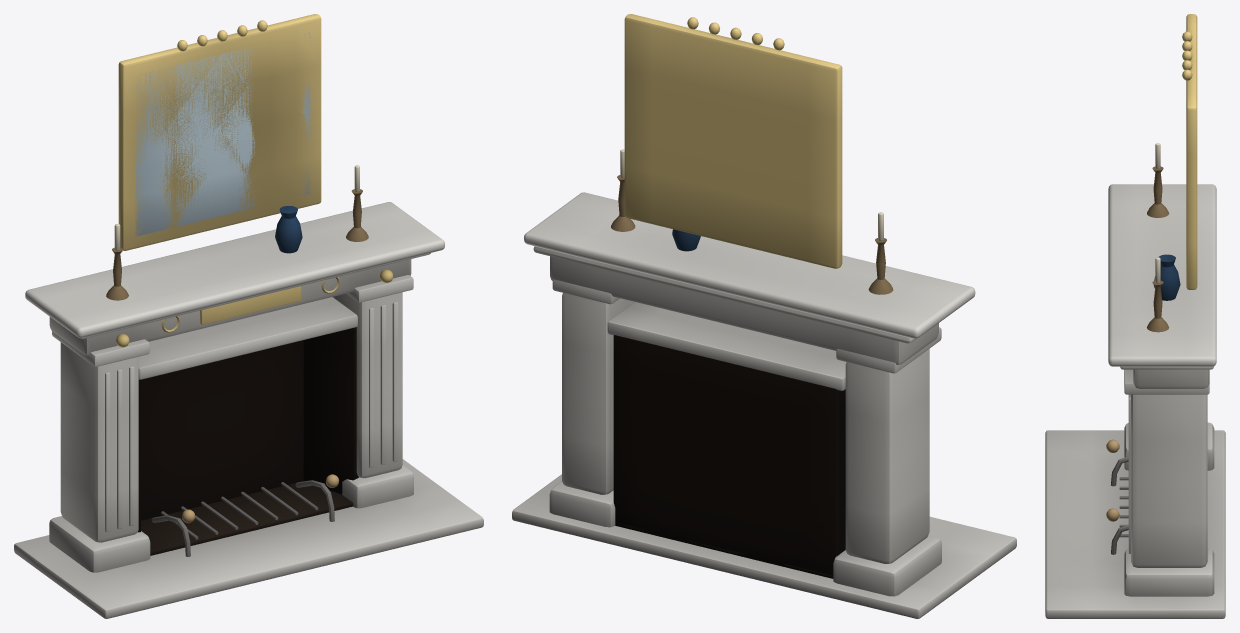
Rendered from obj_kit_fireplace.glb.
3 renders of one model, left to right at view 1: azimuth 30°, elevation 25°; view 2: azimuth 150°, elevation 25°; view 3: azimuth 270°, elevation 25°, orthographic. The views are drawn at different scales.
Parts seen in each view (by area): view 1: Cube.022, Cube.017, Cube, Cube.015, Cube.023, Cube.002, Cube.019, Cube.021, Cube.008, Cube.020, Cube.013, Cube.001 (+12 smaller); view 2: Cube.022, Cube.017, Cube.015, Cube.002, Cube, Cube.008, Cube.013, Cube.021, Cube.001, Cube.016, Cube.007, Cube.006 (+2 smaller); view 3: Cube, Cube.015, Cube.008, Cube.022, Cube.007, Cube.013, vase, Cube.012, Cube.001, candlestick.001, candlestick, Cube.011 (+1 smaller).
Boxes of the visible parts, <box> form: Cube.022: <box>118,14,321,250</box>; Cube.017: <box>141,340,303,520</box>; Cube: <box>14,459,483,618</box>; Cube.015: <box>25,202,444,337</box>; Cube.023: <box>135,33,310,236</box>; Cube.002: <box>60,342,138,542</box>; Cube.019: <box>303,327,358,494</box>; Cube.021: <box>138,297,357,379</box>; Cube.008: <box>333,292,402,478</box>; Cube.020: <box>141,481,353,555</box>; Cube.013: <box>49,259,411,355</box>; Cube.001: <box>49,516,150,572</box>; Cube.022: <box>624,14,842,268</box>; Cube.017: <box>613,335,840,578</box>; Cube.015: <box>524,192,975,338</box>; Cube.002: <box>845,349,929,563</box>; Cube: <box>512,474,1016,618</box>; Cube.008: <box>562,293,634,494</box>; Cube.013: <box>550,256,938,364</box>; Cube.021: <box>607,302,846,390</box>; Cube.001: <box>833,535,941,596</box>; Cube.016: <box>533,246,916,343</box>; Cube.007: <box>549,481,615,527</box>; Cube.006: <box>836,327,941,373</box>; Cube: <box>1045,430,1225,618</box>; Cube.015: <box>1108,184,1216,366</box>; Cube.008: <box>1131,394,1207,567</box>; Cube.022: <box>1186,14,1197,289</box>; Cube.007: <box>1124,548,1214,596</box>; Cube.013: <box>1133,369,1209,388</box>; vase: <box>1153,254,1180,300</box>; Cube.012: <box>1124,369,1209,394</box>; Cube.001: <box>1124,422,1214,470</box>; candlestick.001: <box>1147,280,1168,332</box>; candlestick: <box>1147,166,1169,217</box>; Cube.011: <box>1128,397,1130,553</box>.
Size of the model in its own units: 1.9 by 2.34 by 0.8.
